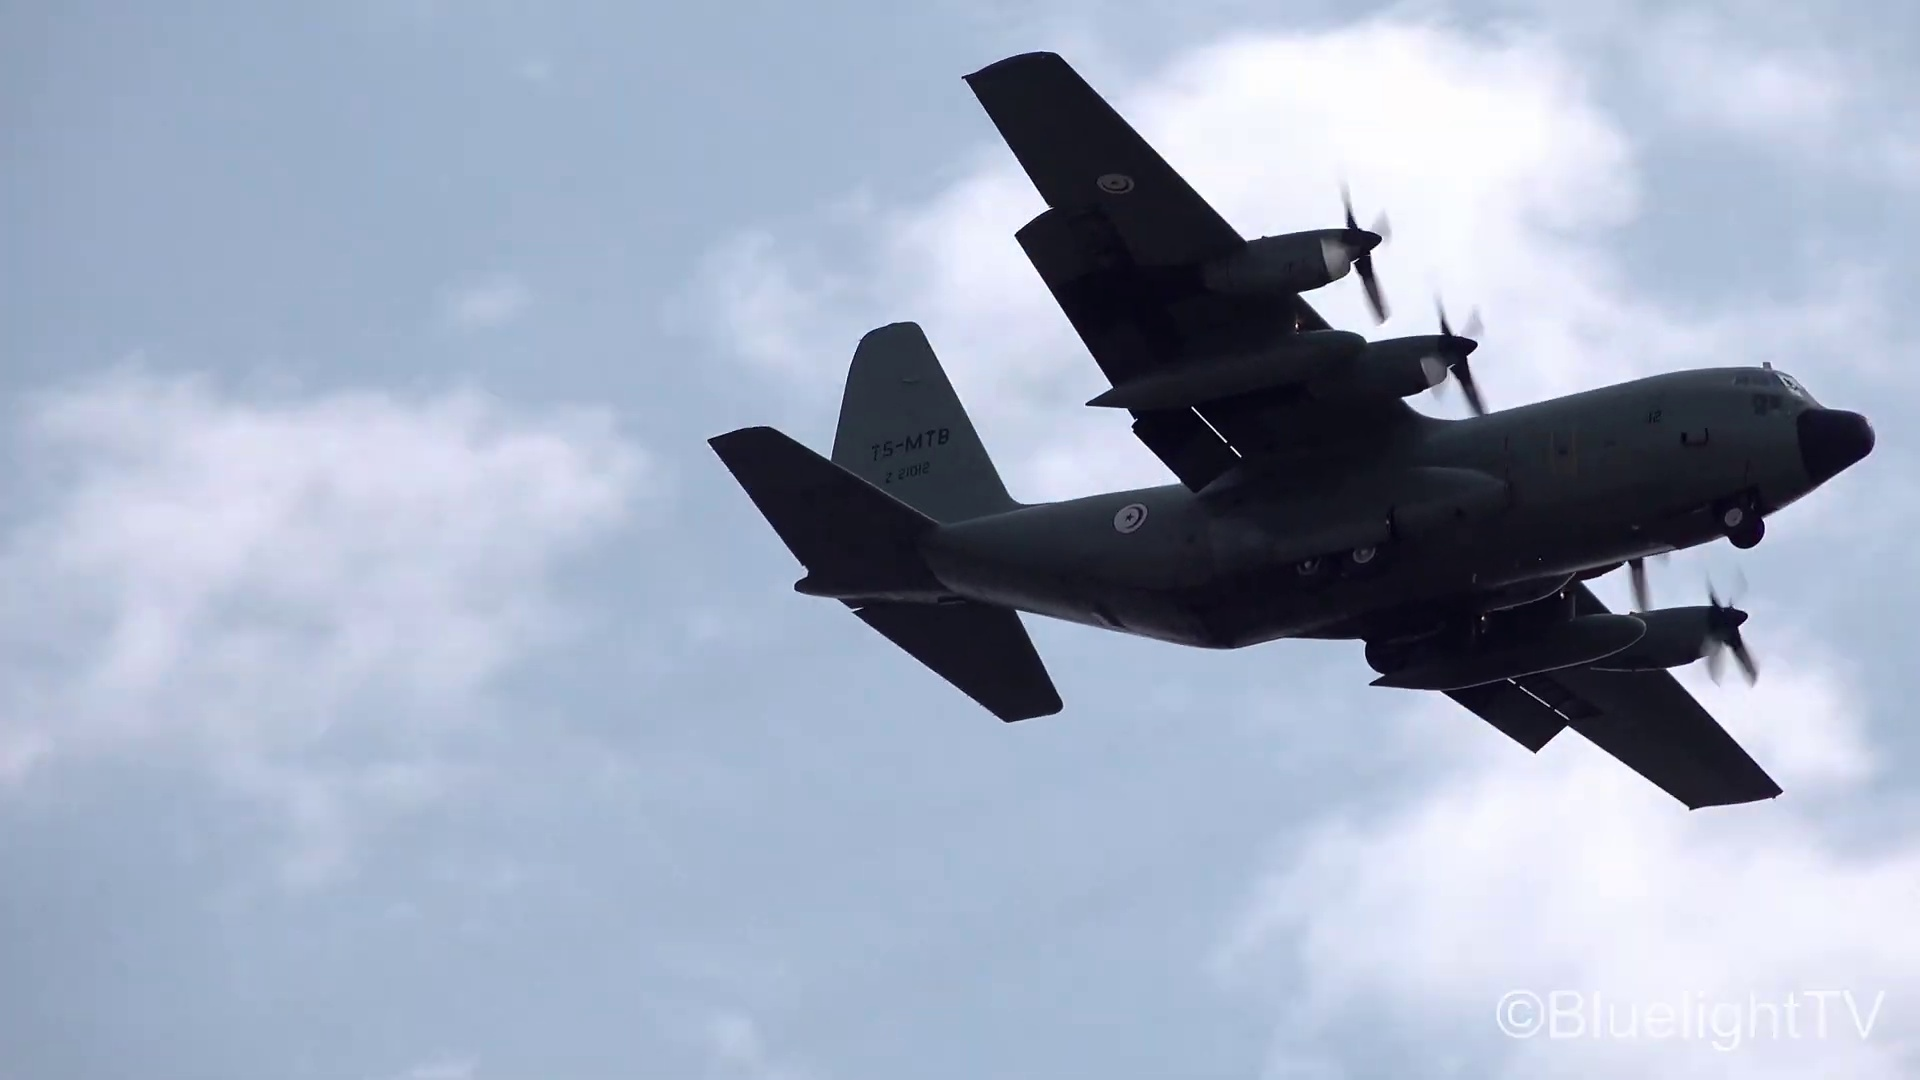Airplane: (704, 50, 1876, 815)
